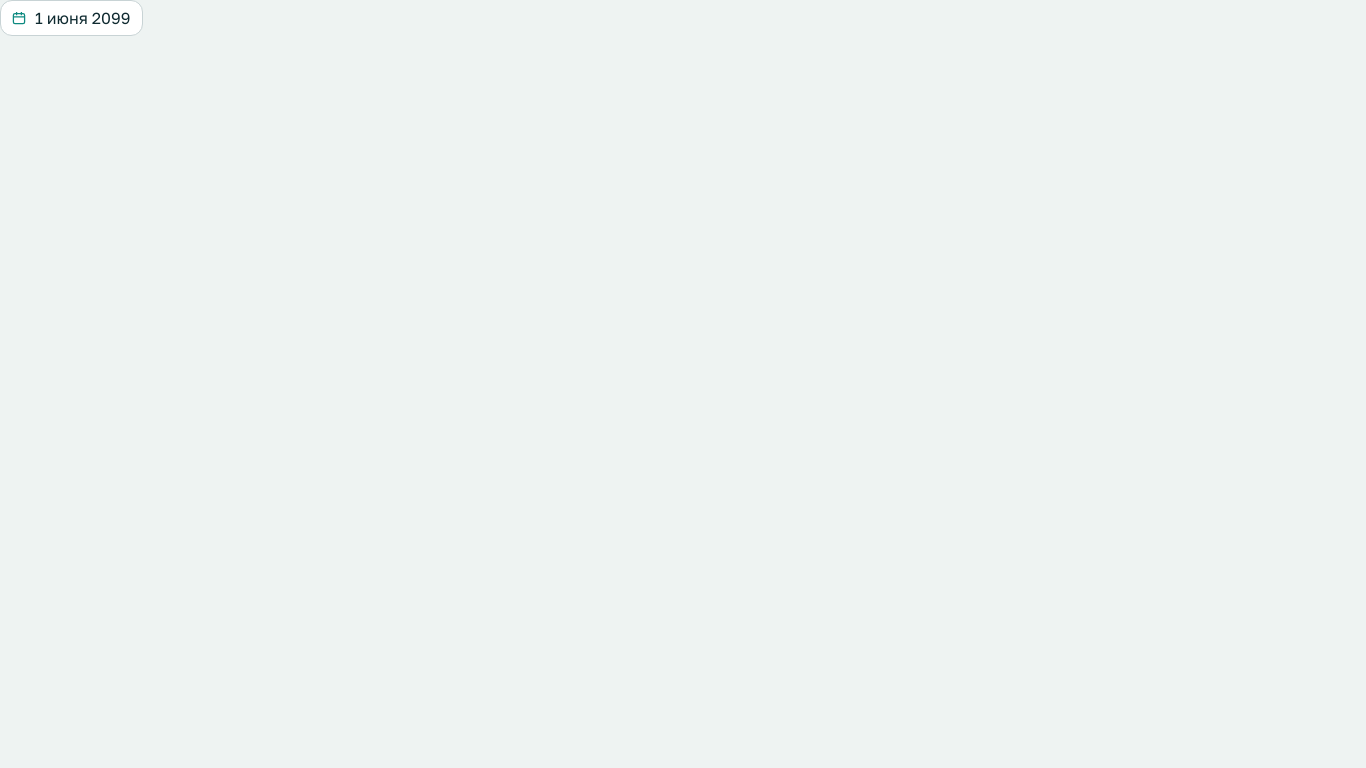
календарь: зелёные дни — есть свободное время, серые — нет, выходной бледно
Click the button with aria-label "День записи".
click(72, 18)  # box [0,0,143,36]
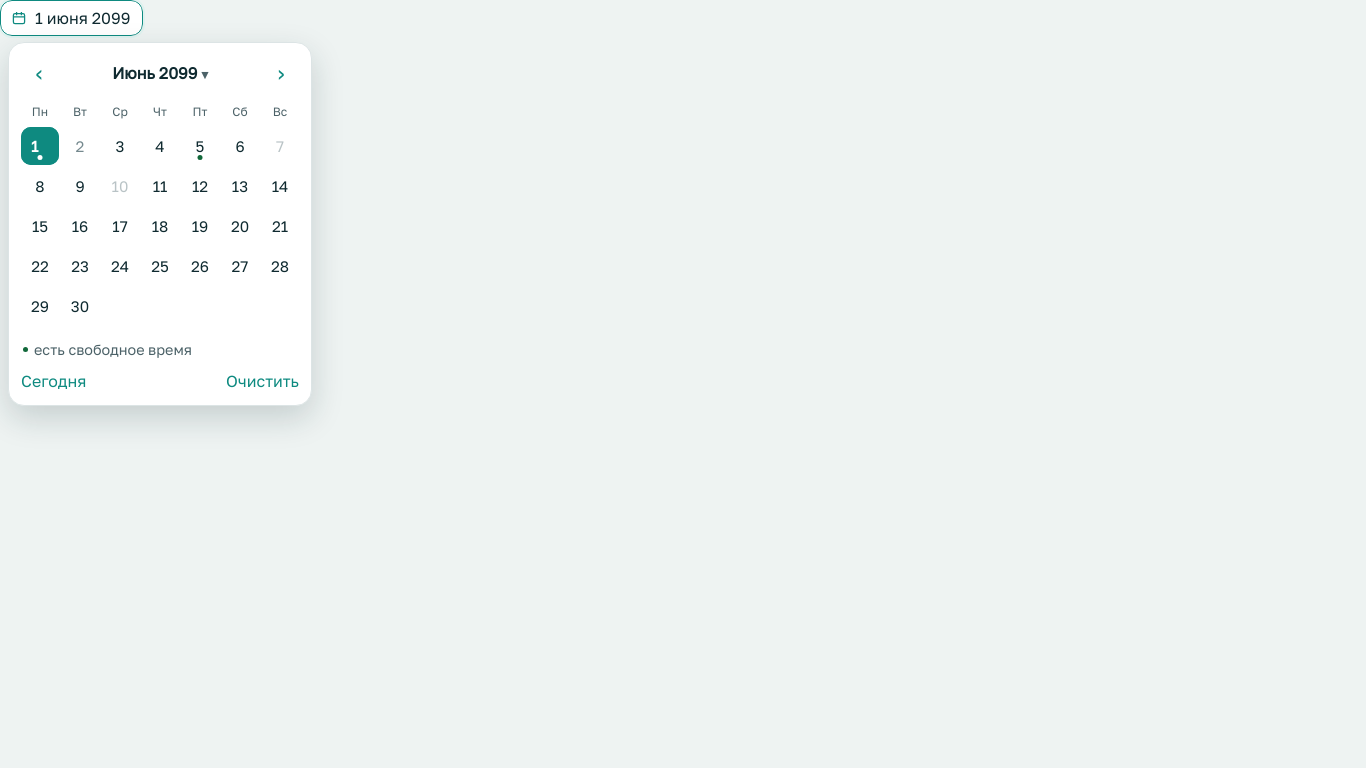
Check: the text "есть свободное время" is shown, box [23,341,192,358]
Click the button named "Следующий месяц".
click(281, 73)  # box [263,55,299,91]
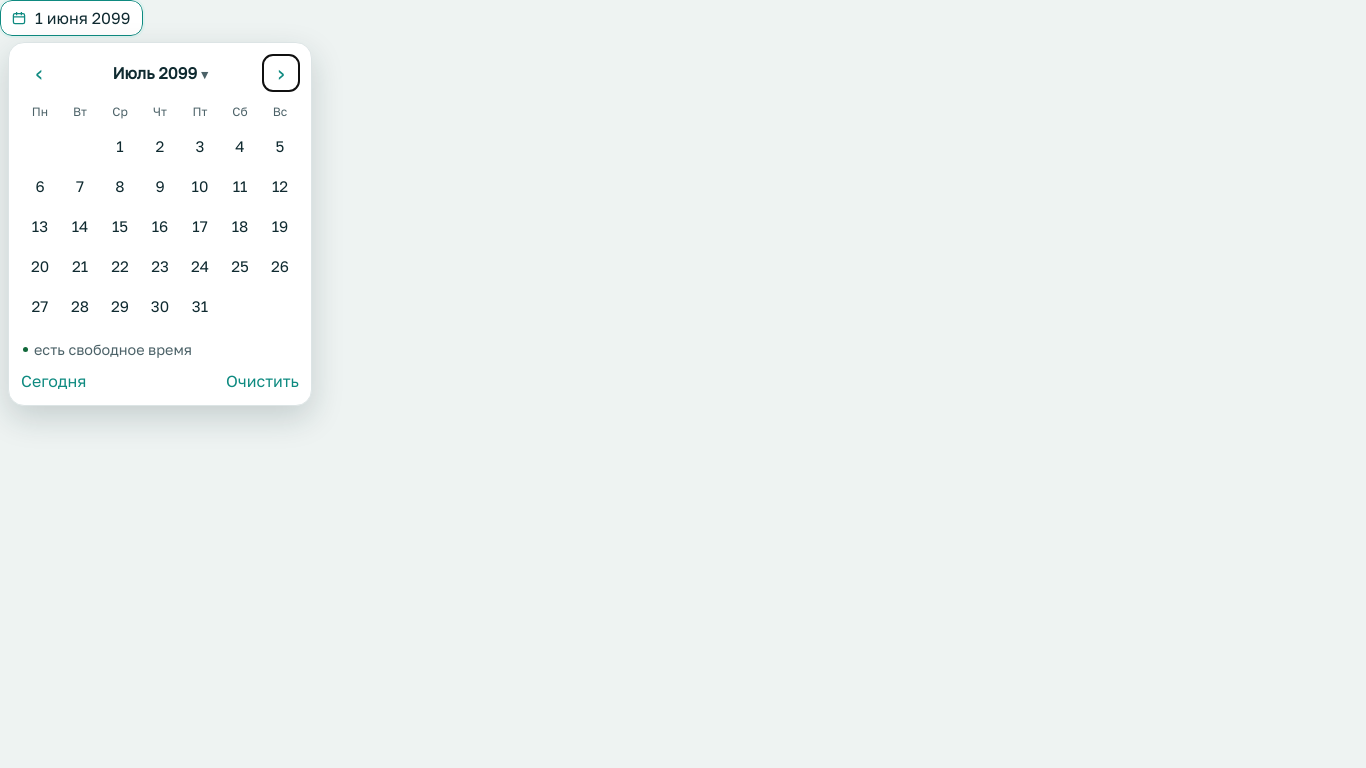
Click the button named "Предыдущий месяц".
click(39, 73)  # box [21,55,57,91]
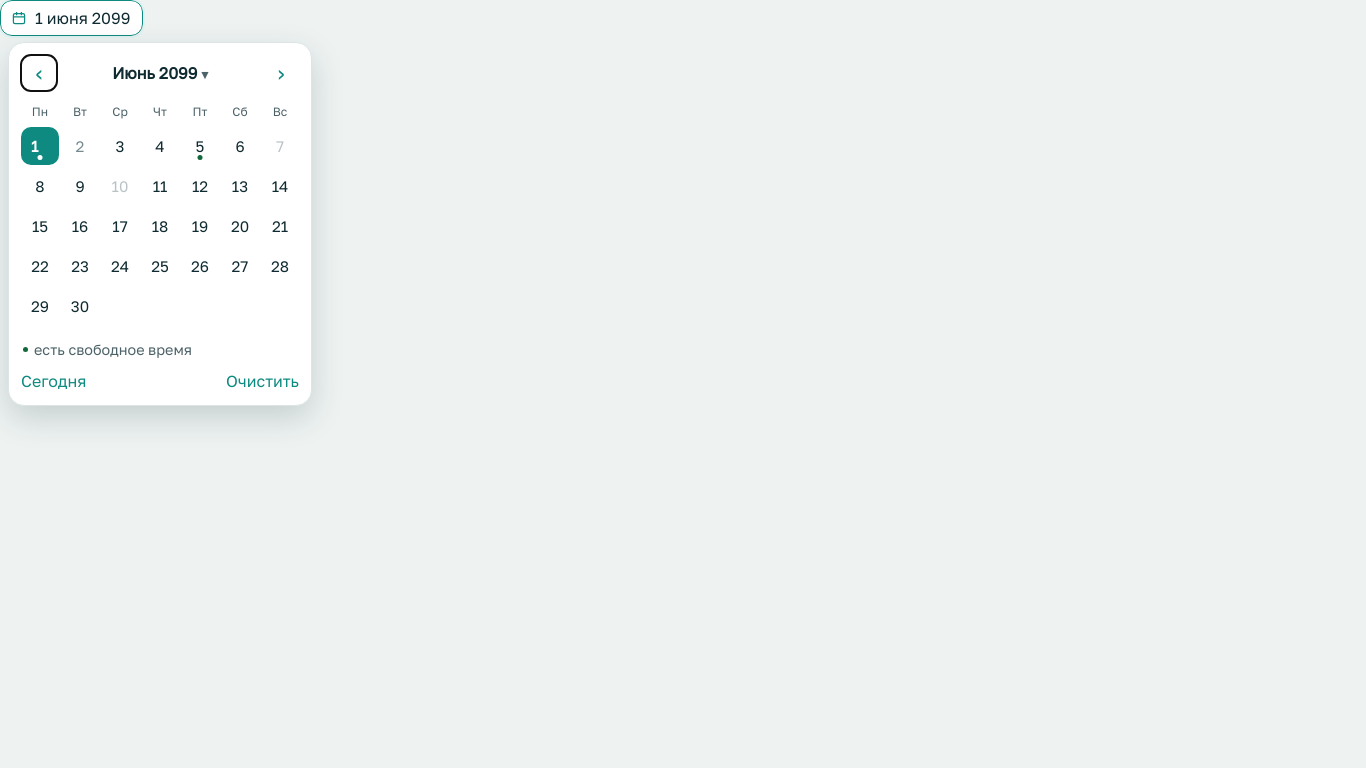
Check: the button "5" is shown, box [181,127,219,165]
